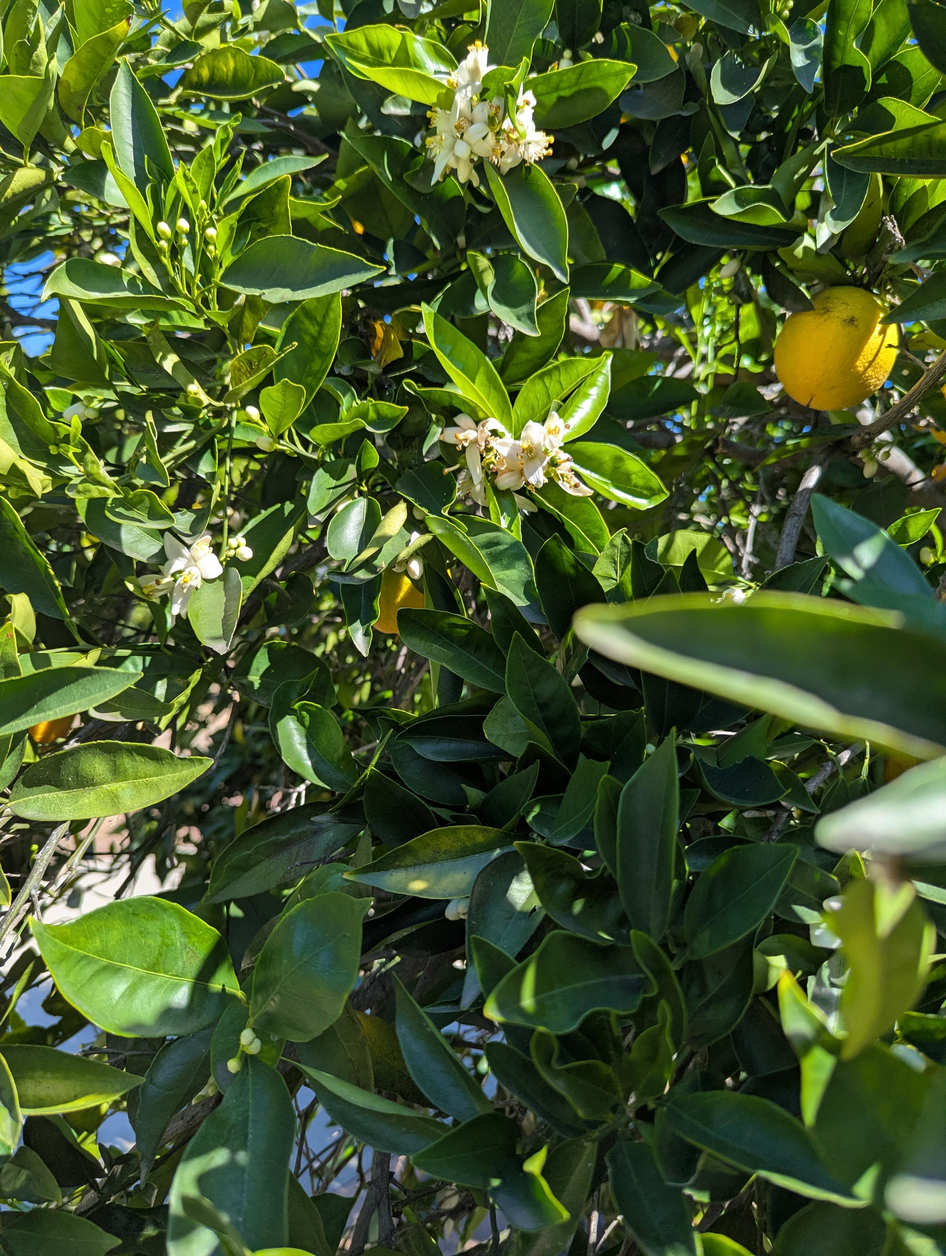orange: (774, 286, 898, 411), (373, 564, 452, 635), (28, 713, 76, 752), (929, 385, 946, 445)
